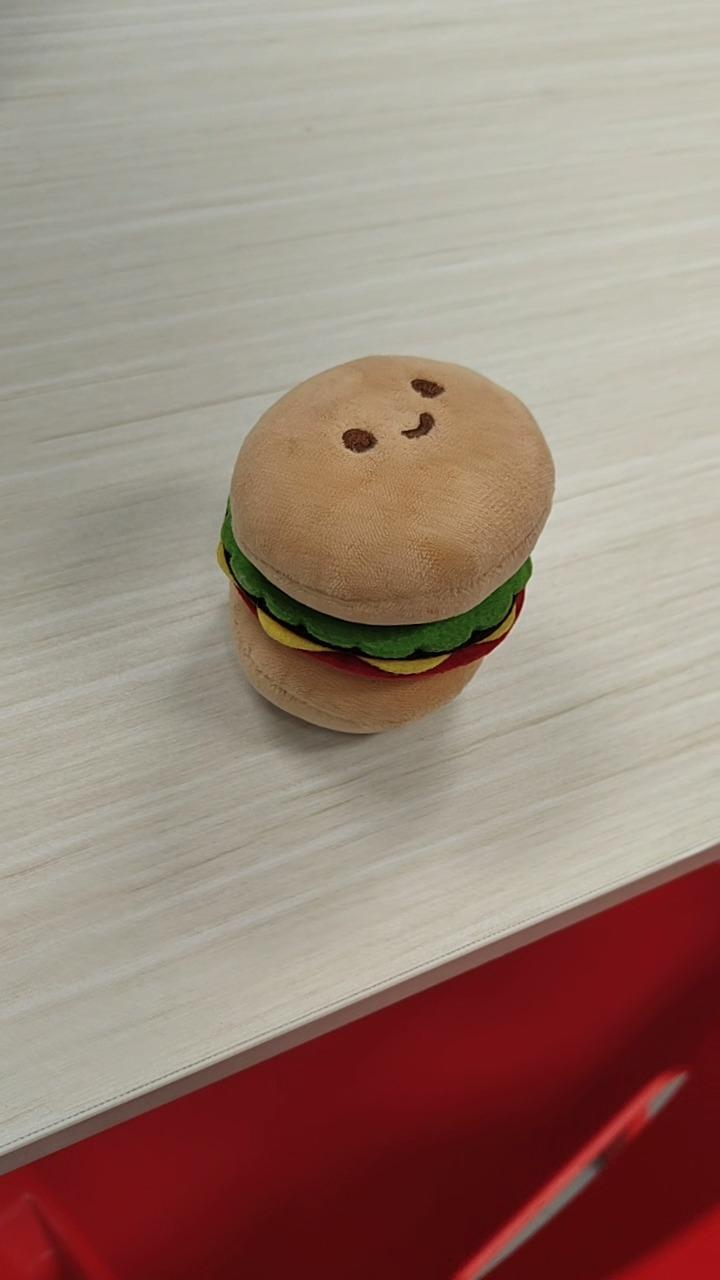hamburger: (214, 352, 556, 736)
